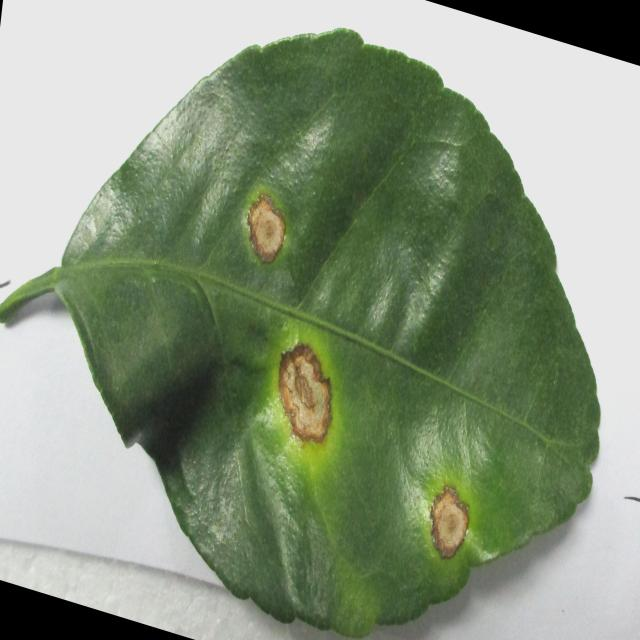antracnose: (0, 30, 600, 635), (279, 344, 332, 443), (431, 487, 468, 558), (247, 194, 285, 263)
